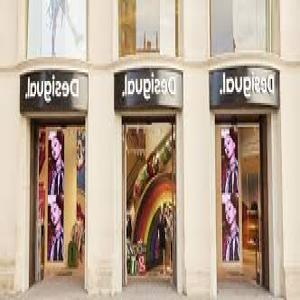desigual: (24, 69, 82, 103), (215, 68, 276, 100), (121, 70, 178, 101)
